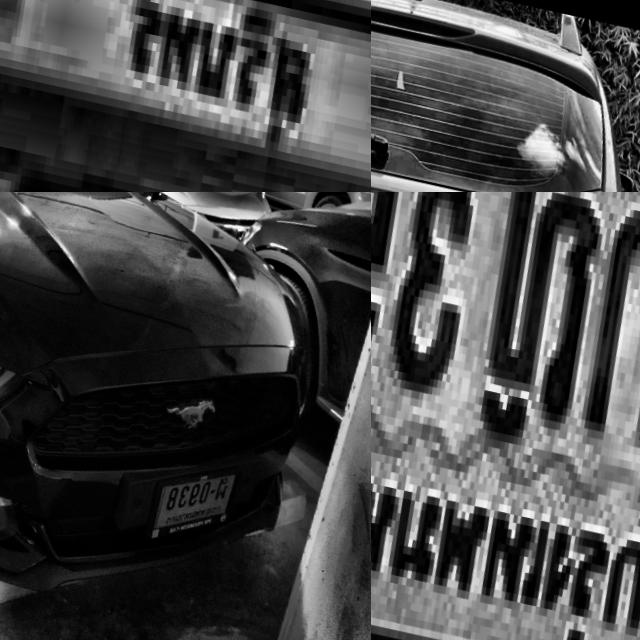license-plate: (371, 192, 640, 640), (0, 0, 371, 192), (130, 447, 240, 557)
